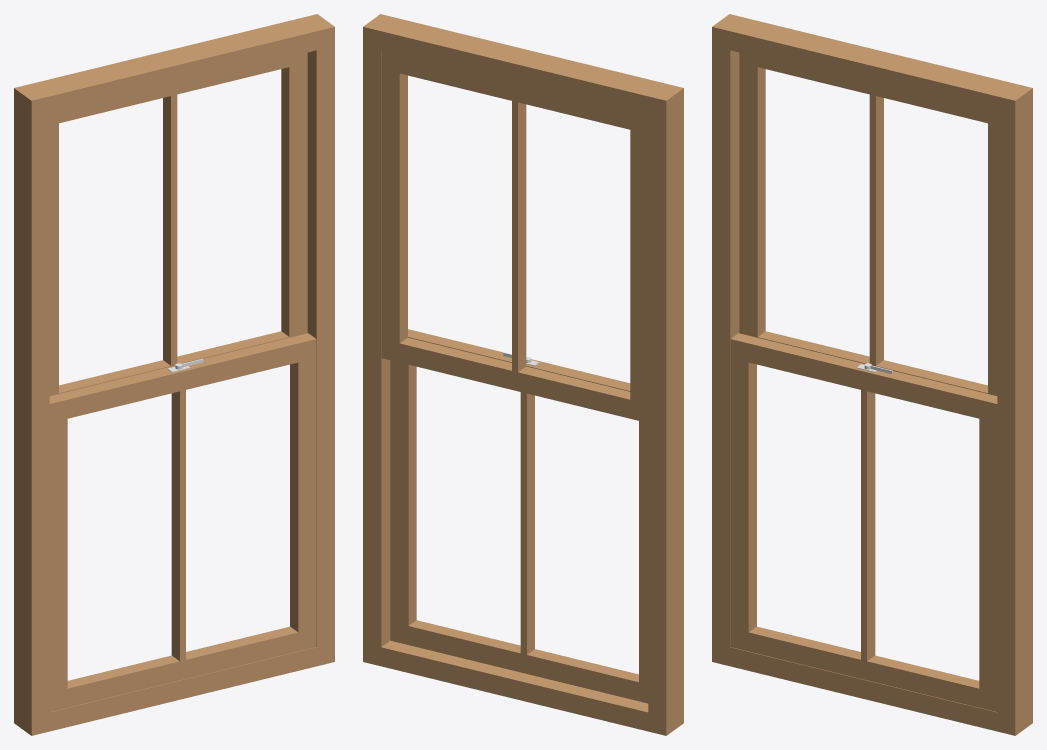
File: sash-window.glb
The picture shows the model from 3 angles, left to right: view 1: azimuth 30°, elevation 25°; view 2: azimuth 150°, elevation 25°; view 3: azimuth 330°, elevation 25°; orthographic projection.
Bounding box in the file's own units: 0.5 × 1 × 0.05.
